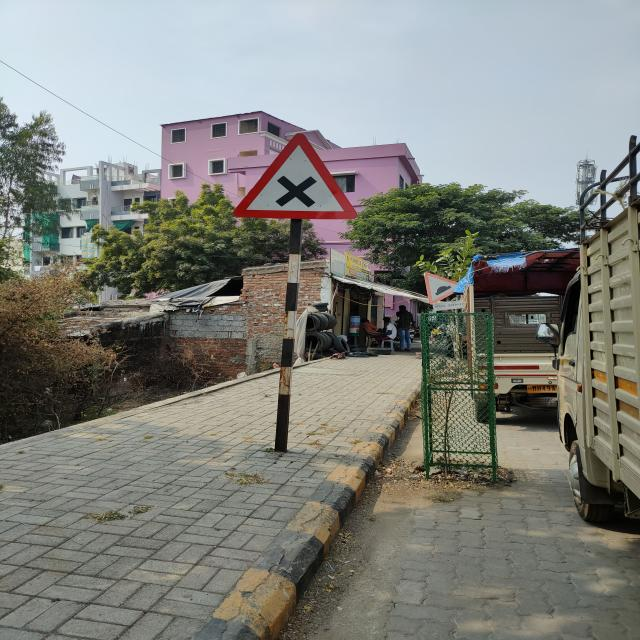cross_road: (232, 133, 358, 228)
